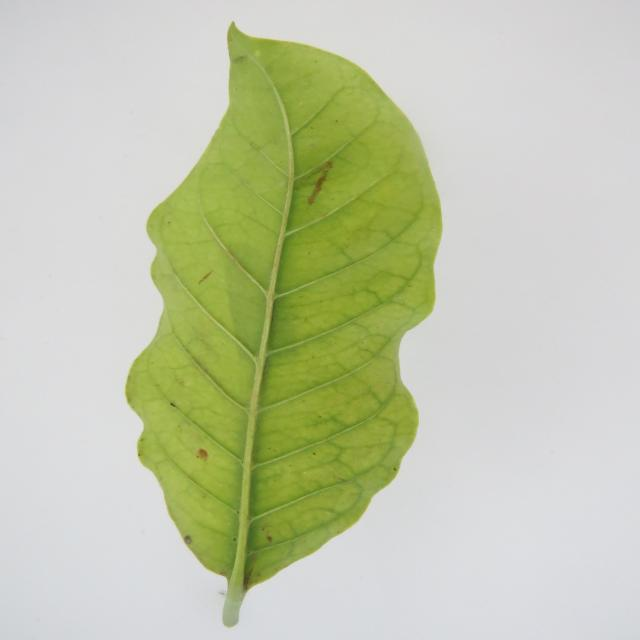DeficienciaNutricional-Manganeso: (127, 25, 442, 626)
